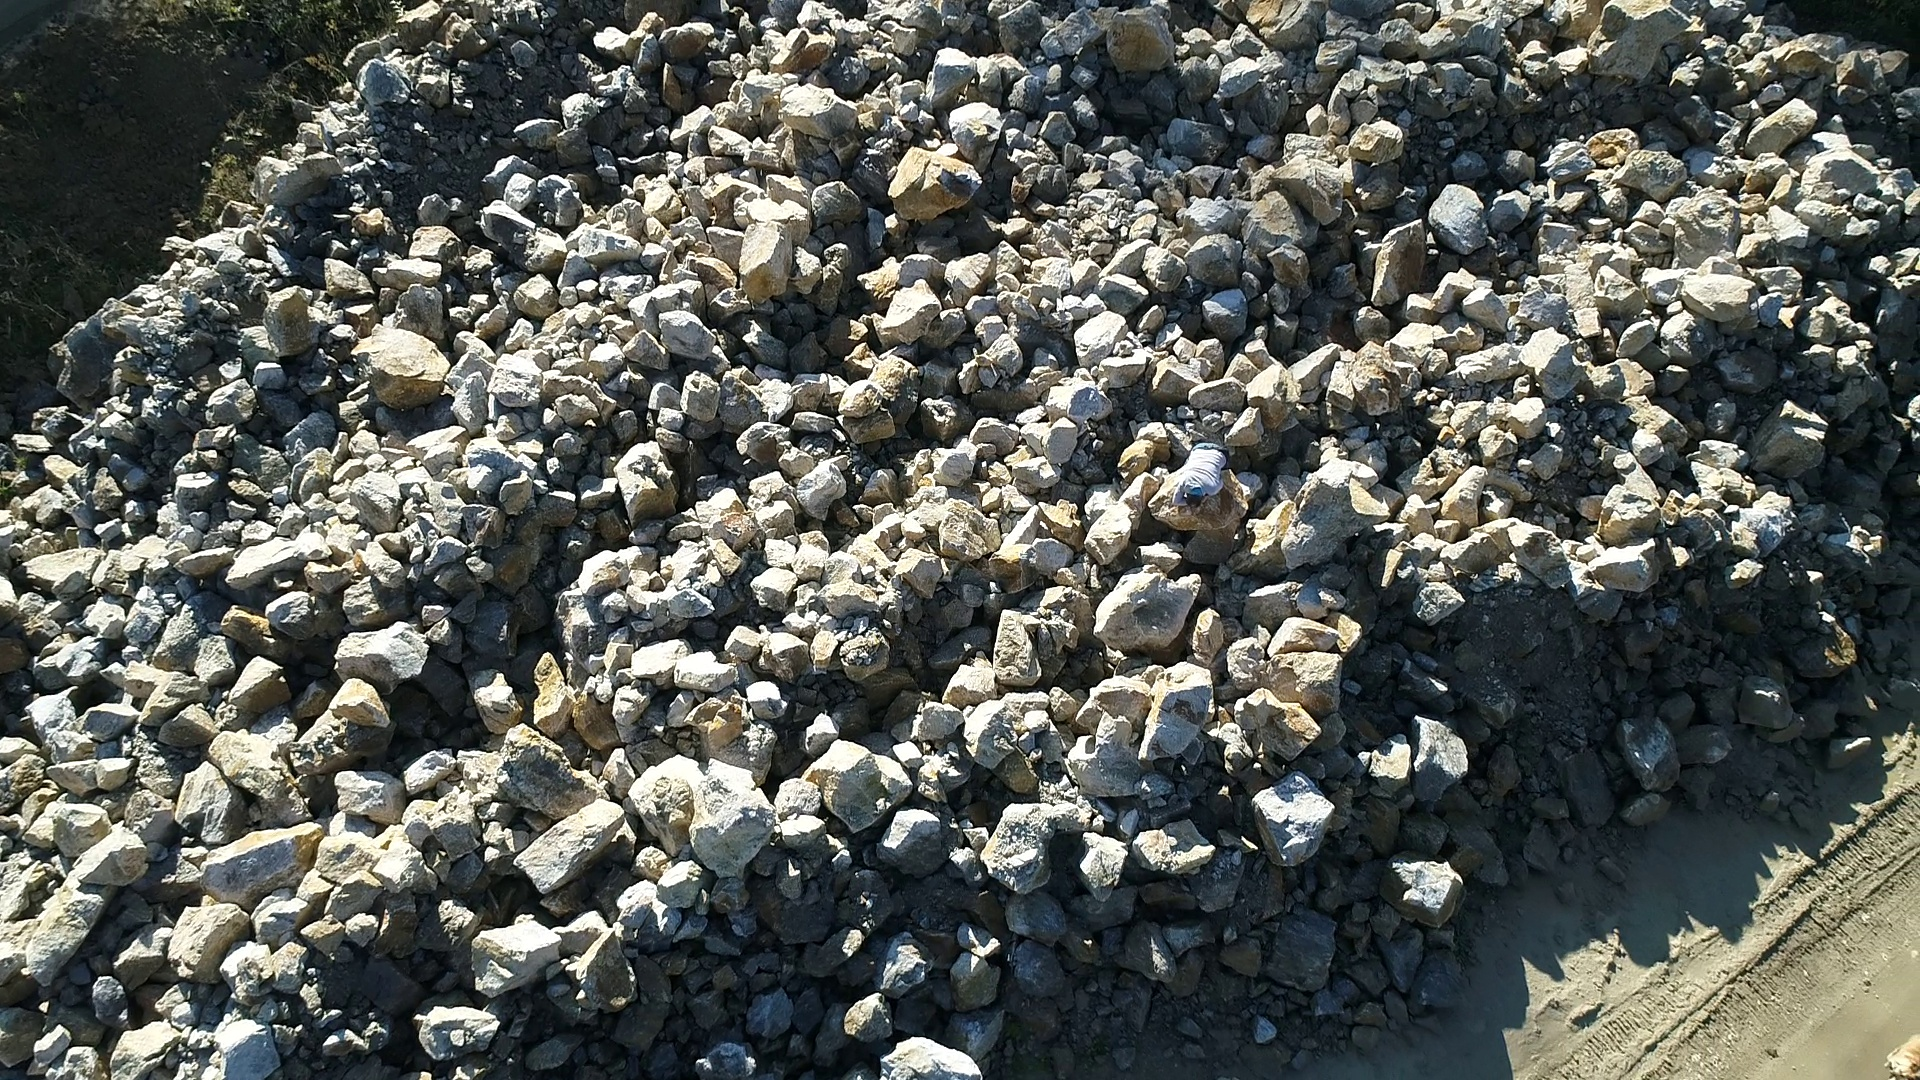person: (1172, 440, 1230, 512)
